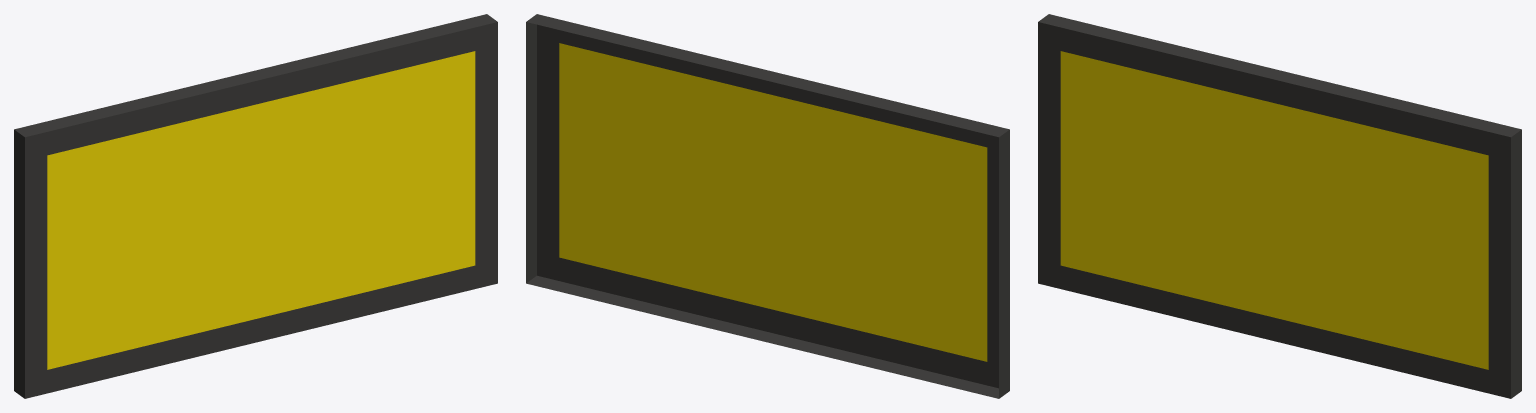
Rendered from Paint_13.fbx.
The picture shows the model from 3 angles, left to right: view 1: azimuth 30°, elevation 25°; view 2: azimuth 150°, elevation 25°; view 3: azimuth 330°, elevation 25°; orthographic projection.
Parts seen in each view (by area): view 1: polySurface942; view 2: polySurface942; view 3: polySurface942.
Part boxes in pixels (x1=…): polySurface942: x1=14, y1=14, x2=497, y2=398; polySurface942: x1=526, y1=14, x2=1009, y2=398; polySurface942: x1=1038, y1=14, x2=1521, y2=398.
Size of the model in its own units: 2.12 by 1.12 by 0.084.
Materials: 1 (1 with a texture image).
